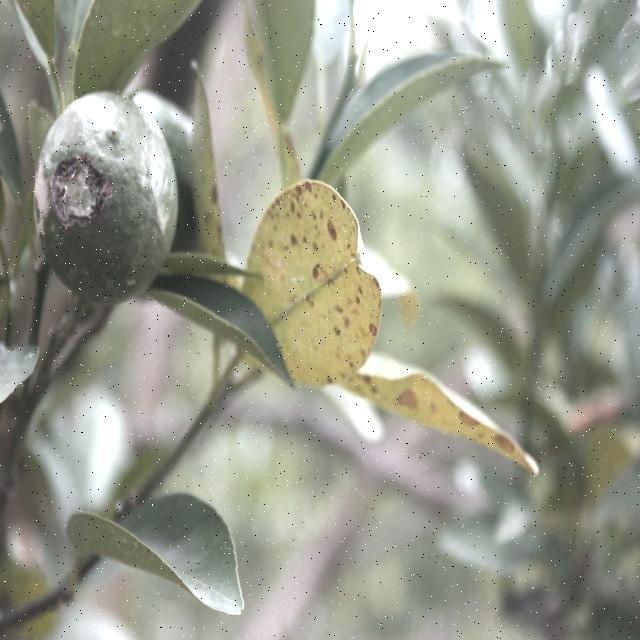melanose: (249, 180, 383, 390), (356, 356, 533, 477)
